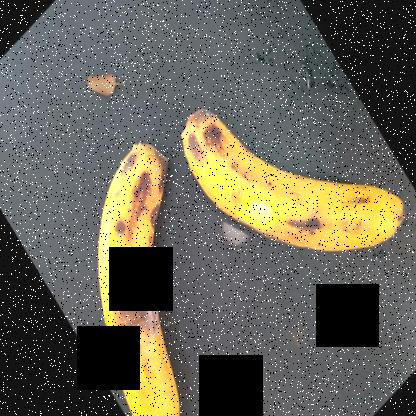ripe: (184, 86, 408, 285)
rotten: (88, 132, 188, 415)
